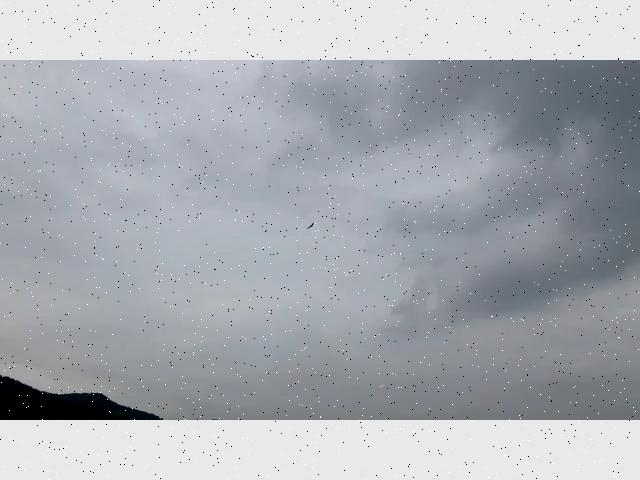Anti-Drone: (298, 218, 320, 230)
